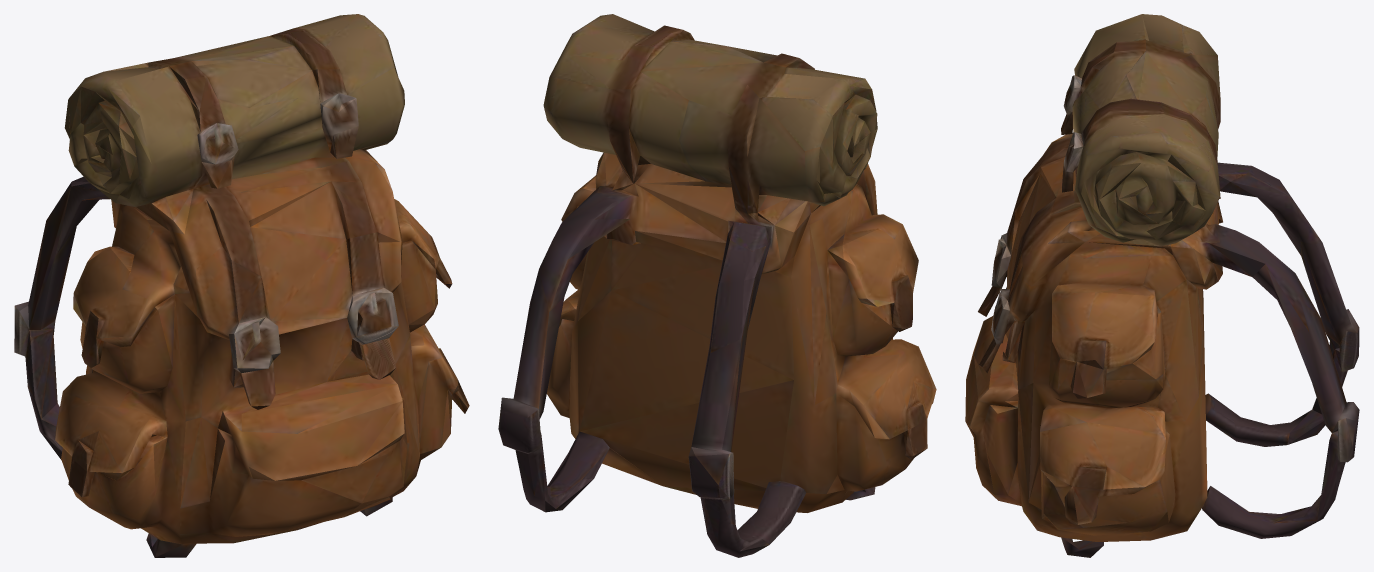
File: backpack-large-low.glb
3 renders of one model, left to right at view 1: azimuth 30°, elevation 25°; view 2: azimuth 150°, elevation 25°; view 3: azimuth 270°, elevation 25°, orthographic. The views are drawn at different scales.
Visible parts, largest first — view 1: output_unwrapped; view 2: output_unwrapped; view 3: output_unwrapped.
Part boxes in pixels (x1,y1,x2,y2): output_unwrapped: (14,14,469,557); output_unwrapped: (498,14,936,557); output_unwrapped: (965,14,1359,557).
Bounding box in the file's own units: 0.8722 × 1 × 0.8176.
Materials: 1 (1 with a texture image).
